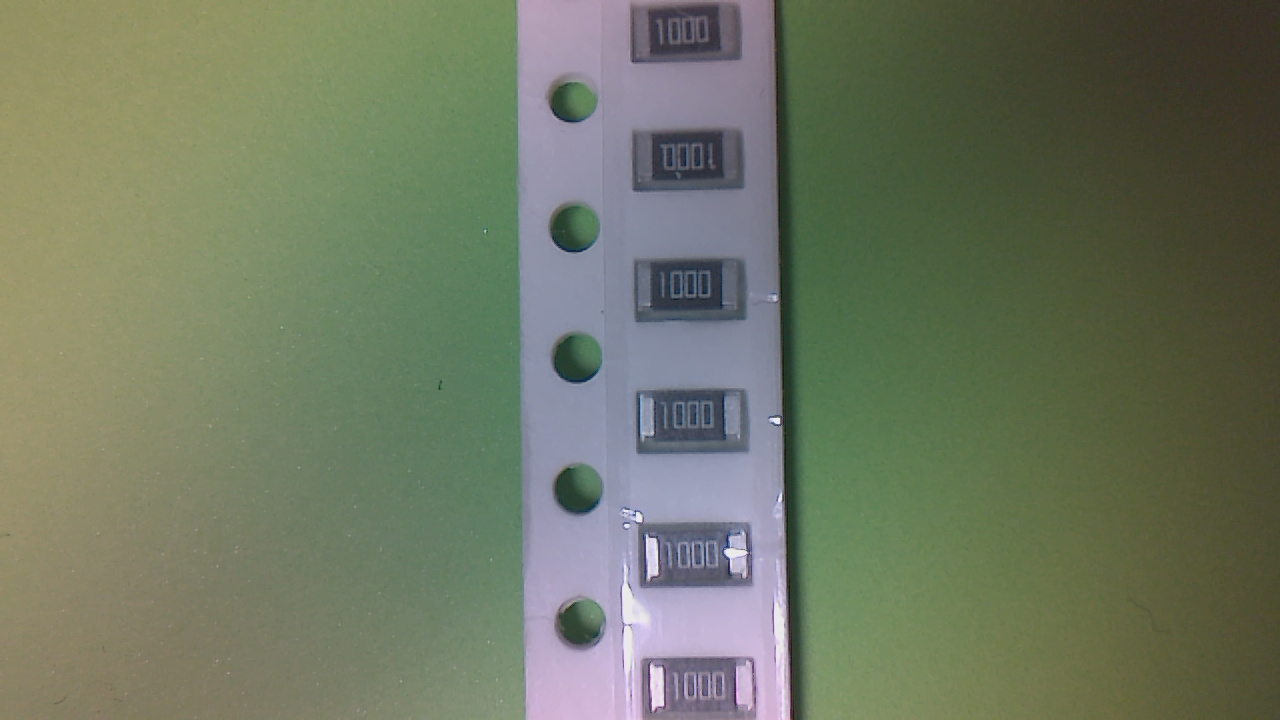Resistor: (637, 133, 744, 197), (651, 663, 762, 720), (640, 266, 746, 325), (638, 8, 747, 64), (643, 394, 747, 451), (650, 531, 753, 587)
